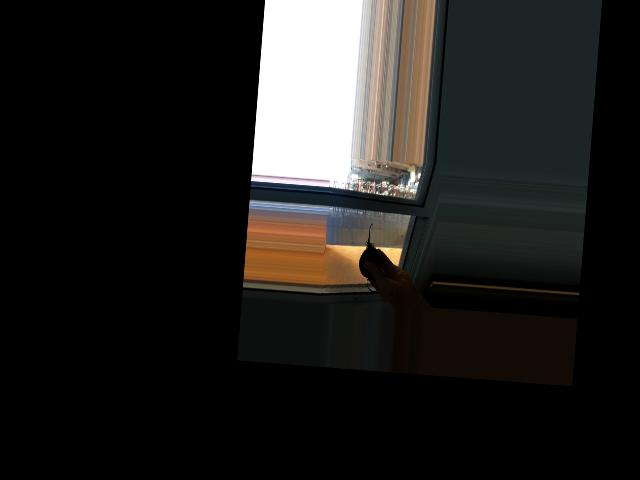beet: (357, 222, 391, 292)
